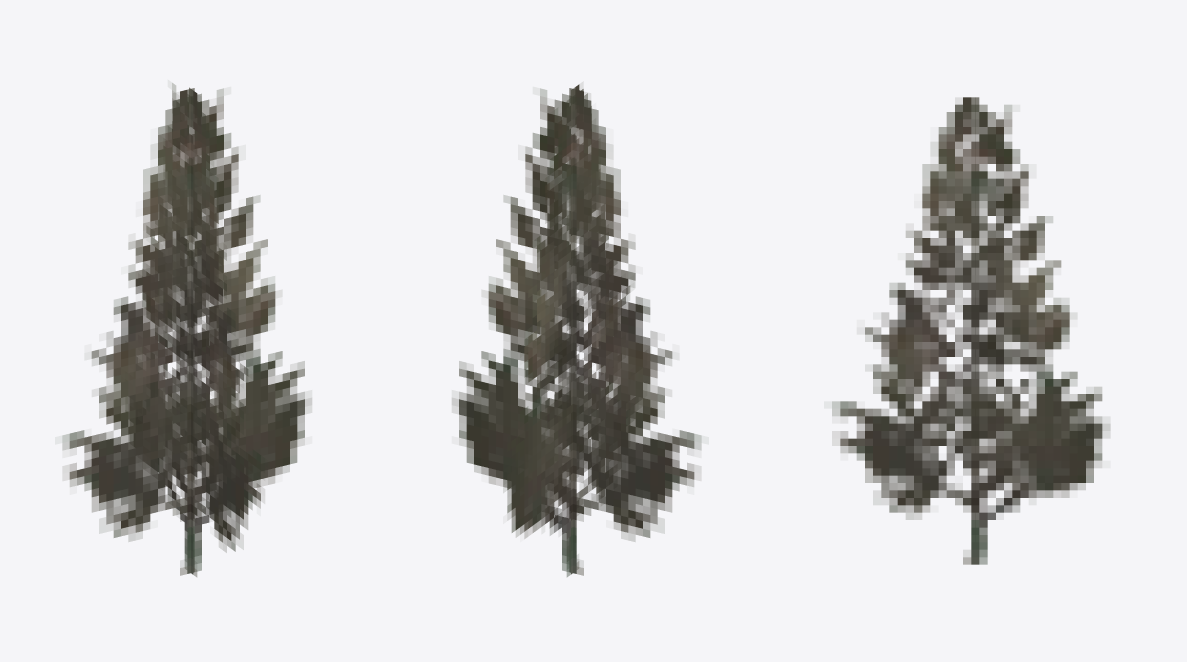
Rendered from tree-pine-large.glb.
3 renders of one model, left to right at view 1: azimuth 30°, elevation 25°; view 2: azimuth 150°, elevation 25°; view 3: azimuth 270°, elevation 25°, orthographic. The views are drawn at different scales.
Visible parts, largest first — view 1: tree-pine-large; view 2: tree-pine-large; view 3: tree-pine-large.
Boxes of the visible parts, box(x1,y1,x2,y2) form: tree-pine-large: box(62, 83, 311, 576); tree-pine-large: box(452, 84, 701, 576); tree-pine-large: box(832, 97, 1109, 564).
Bounding box in the file's own units: 1.3 × 1.7 × 1.3.
1 material, 1 textured.
